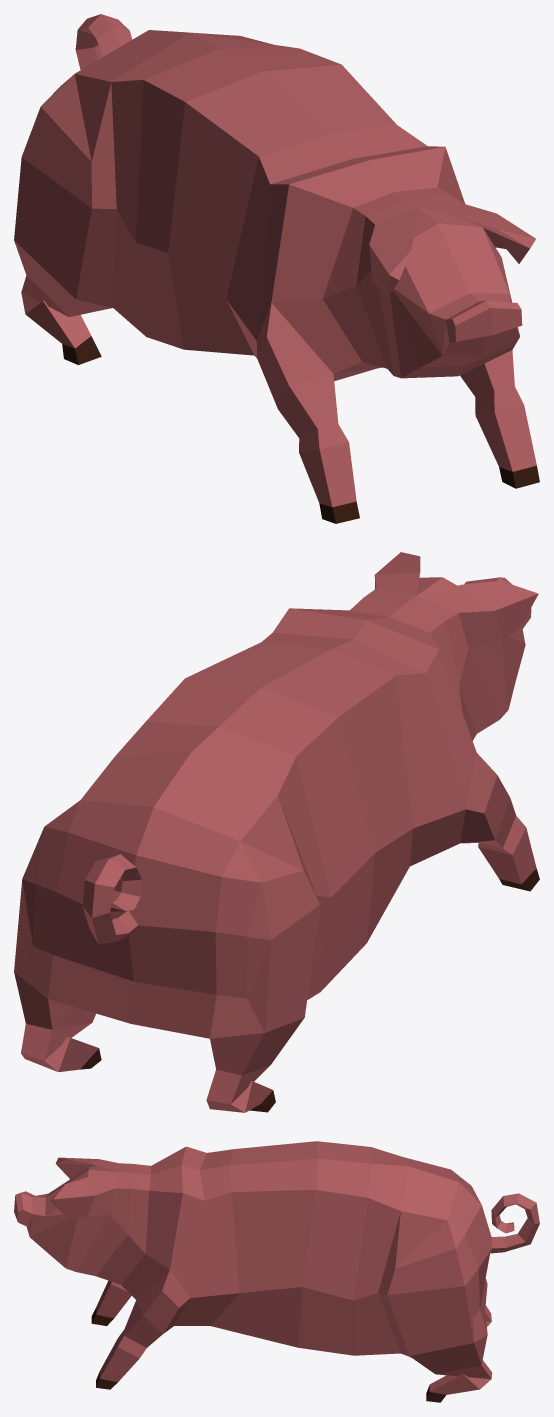
Rendered from Pig_000008.obj.
3 views of the same model, one above another, from view 1: azimuth 30°, elevation 25°; view 2: azimuth 150°, elevation 25°; view 3: azimuth 270°, elevation 25° (orthographic). The views are drawn at different scales.
Visible parts, largest first — view 1: Pig_Cylinder; view 2: Pig_Cylinder; view 3: Pig_Cylinder.
Part boxes in pixels (x1,y1,x2,y2): Pig_Cylinder: [14, 14, 539, 523]; Pig_Cylinder: [14, 552, 539, 1112]; Pig_Cylinder: [14, 1141, 539, 1402].
Size of the model in its own units: 3.32 by 4.2 by 9.38.
